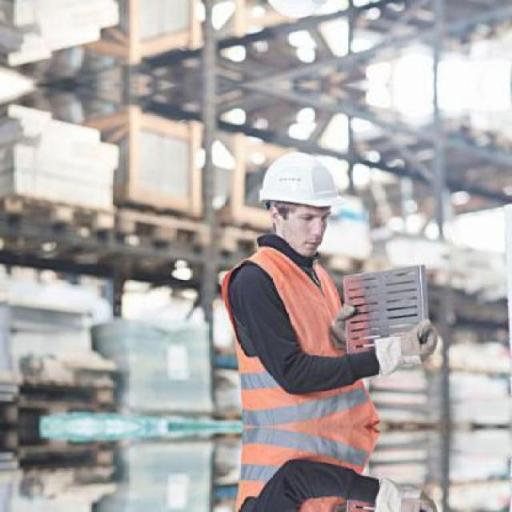helmet: (250, 144, 351, 220)
vest: (215, 248, 382, 430)
